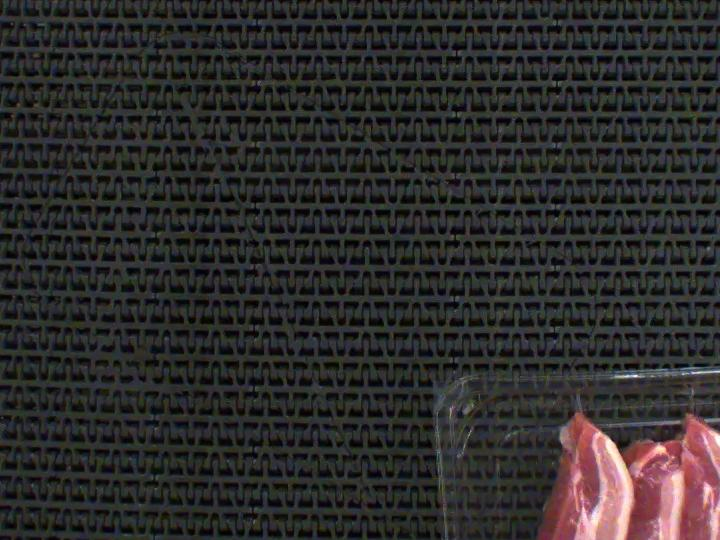packaging-error: (566, 383, 588, 416)
